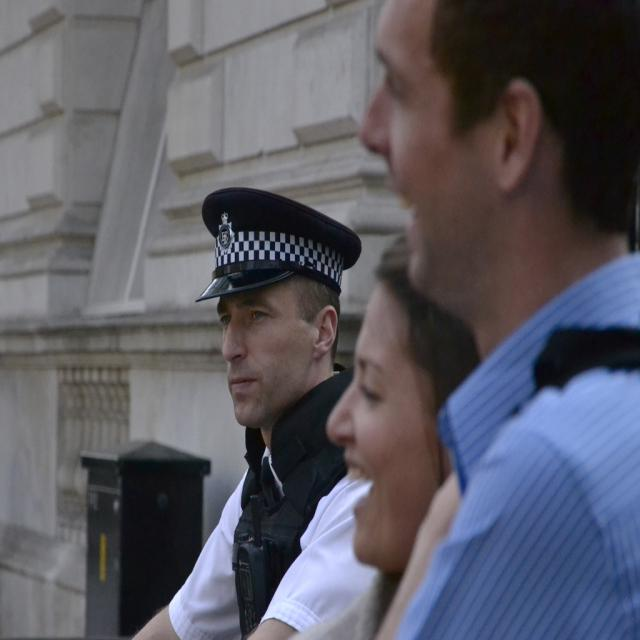Hat: (194, 187, 362, 302)
